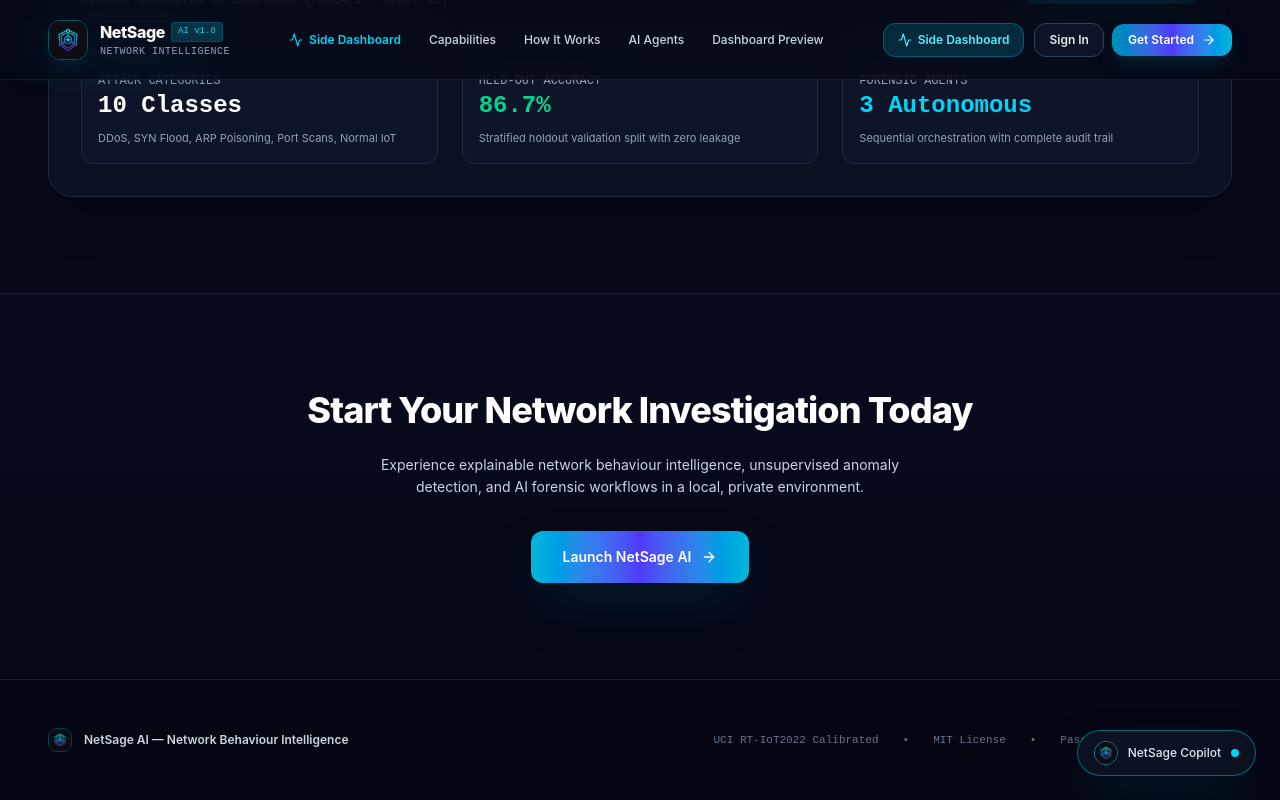
Test case: NetSage Frontend Application › displays onboarding state when entering overview with no dataset loaded
(page scrolled)
Click the button "Launch NetSage AI": (640, 557) x1=530 y1=531 x2=750 y2=583
(page scrolled)
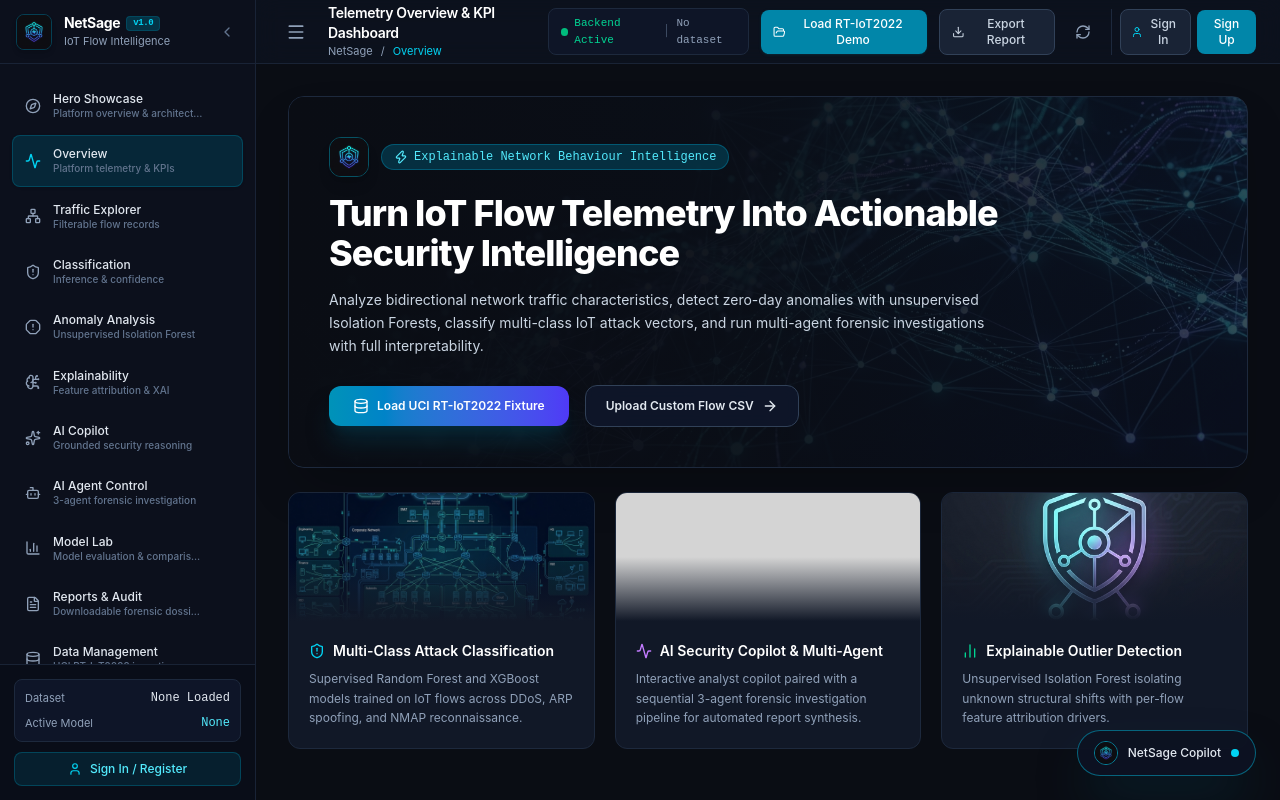
Check: the heading "Turn IoT Flow Telemetry Into Actionable Security Intelligence" is shown, box x1=329 y1=193 x2=1017 y2=273
Check: the button "Load UCI RT-IoT2022 Fixture" is shown, box x1=329 y1=386 x2=569 y2=426
